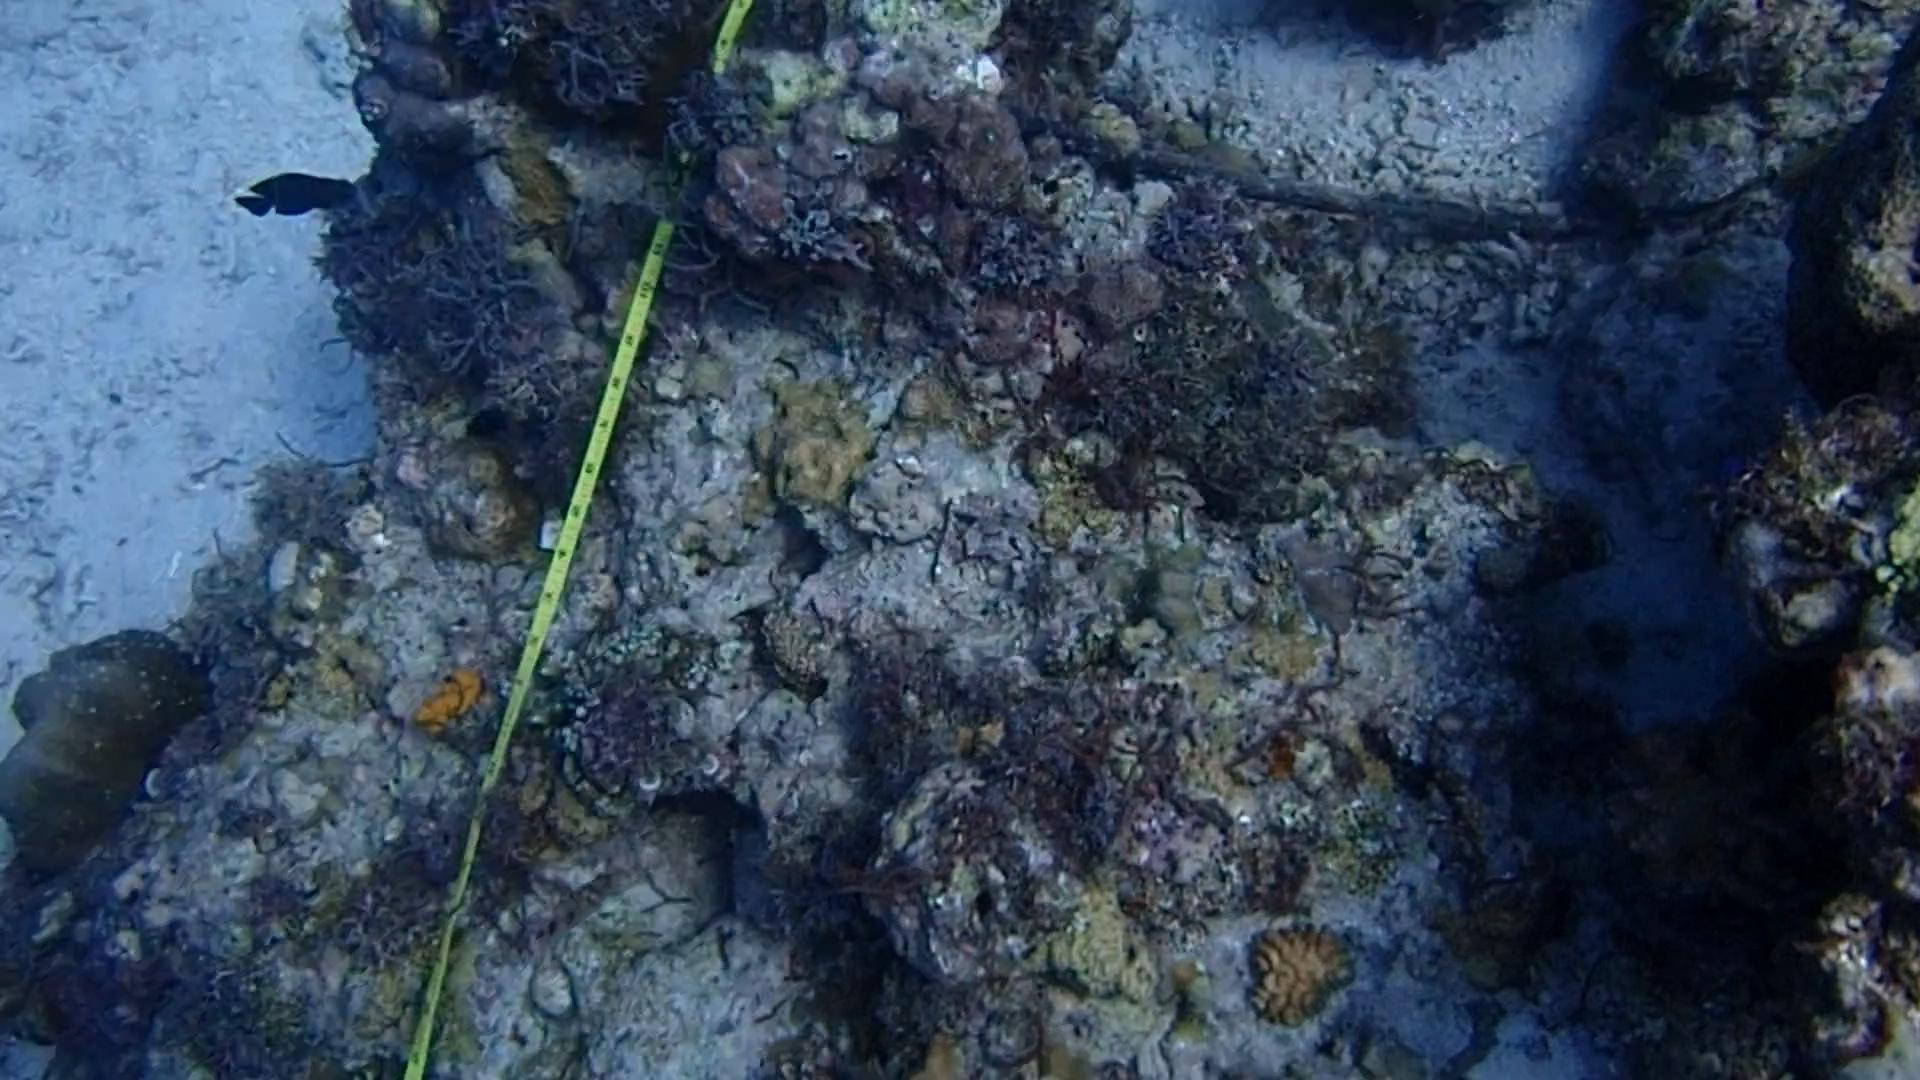Dark Fish: (219, 161, 367, 239)
